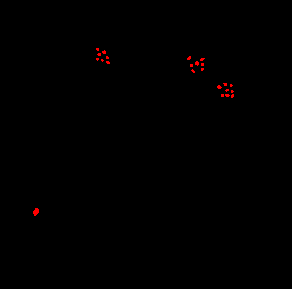Target: (33, 208, 39, 216), (195, 61, 199, 66), (217, 85, 222, 89), (102, 50, 106, 54), (187, 56, 191, 60), (191, 69, 195, 73), (200, 58, 205, 61), (225, 94, 230, 97), (97, 53, 101, 56), (106, 61, 110, 64), (223, 83, 227, 86), (225, 89, 229, 92), (231, 94, 234, 98), (96, 48, 99, 51), (106, 56, 109, 59), (96, 58, 99, 61), (101, 59, 104, 62), (201, 63, 204, 66), (190, 64, 193, 67), (201, 68, 204, 71), (230, 84, 233, 87), (231, 90, 234, 93), (221, 94, 224, 97)
